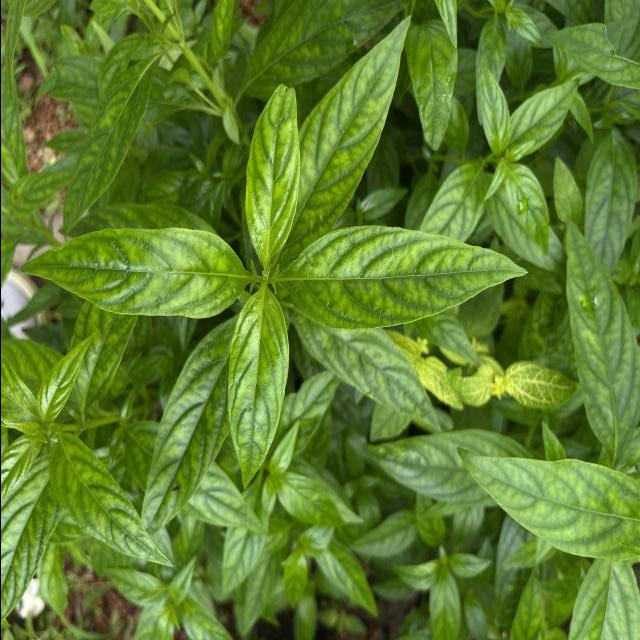Andrographis paniculata: (291, 12, 414, 250), (283, 222, 529, 333), (447, 446, 640, 567), (137, 316, 240, 540), (18, 222, 250, 318), (56, 51, 165, 242), (40, 428, 174, 573), (563, 210, 640, 454), (287, 326, 443, 434), (226, 284, 288, 493), (241, 81, 302, 272), (584, 130, 638, 270), (404, 25, 458, 156), (317, 538, 380, 620), (502, 160, 550, 258), (518, 75, 582, 144), (274, 473, 344, 533)
